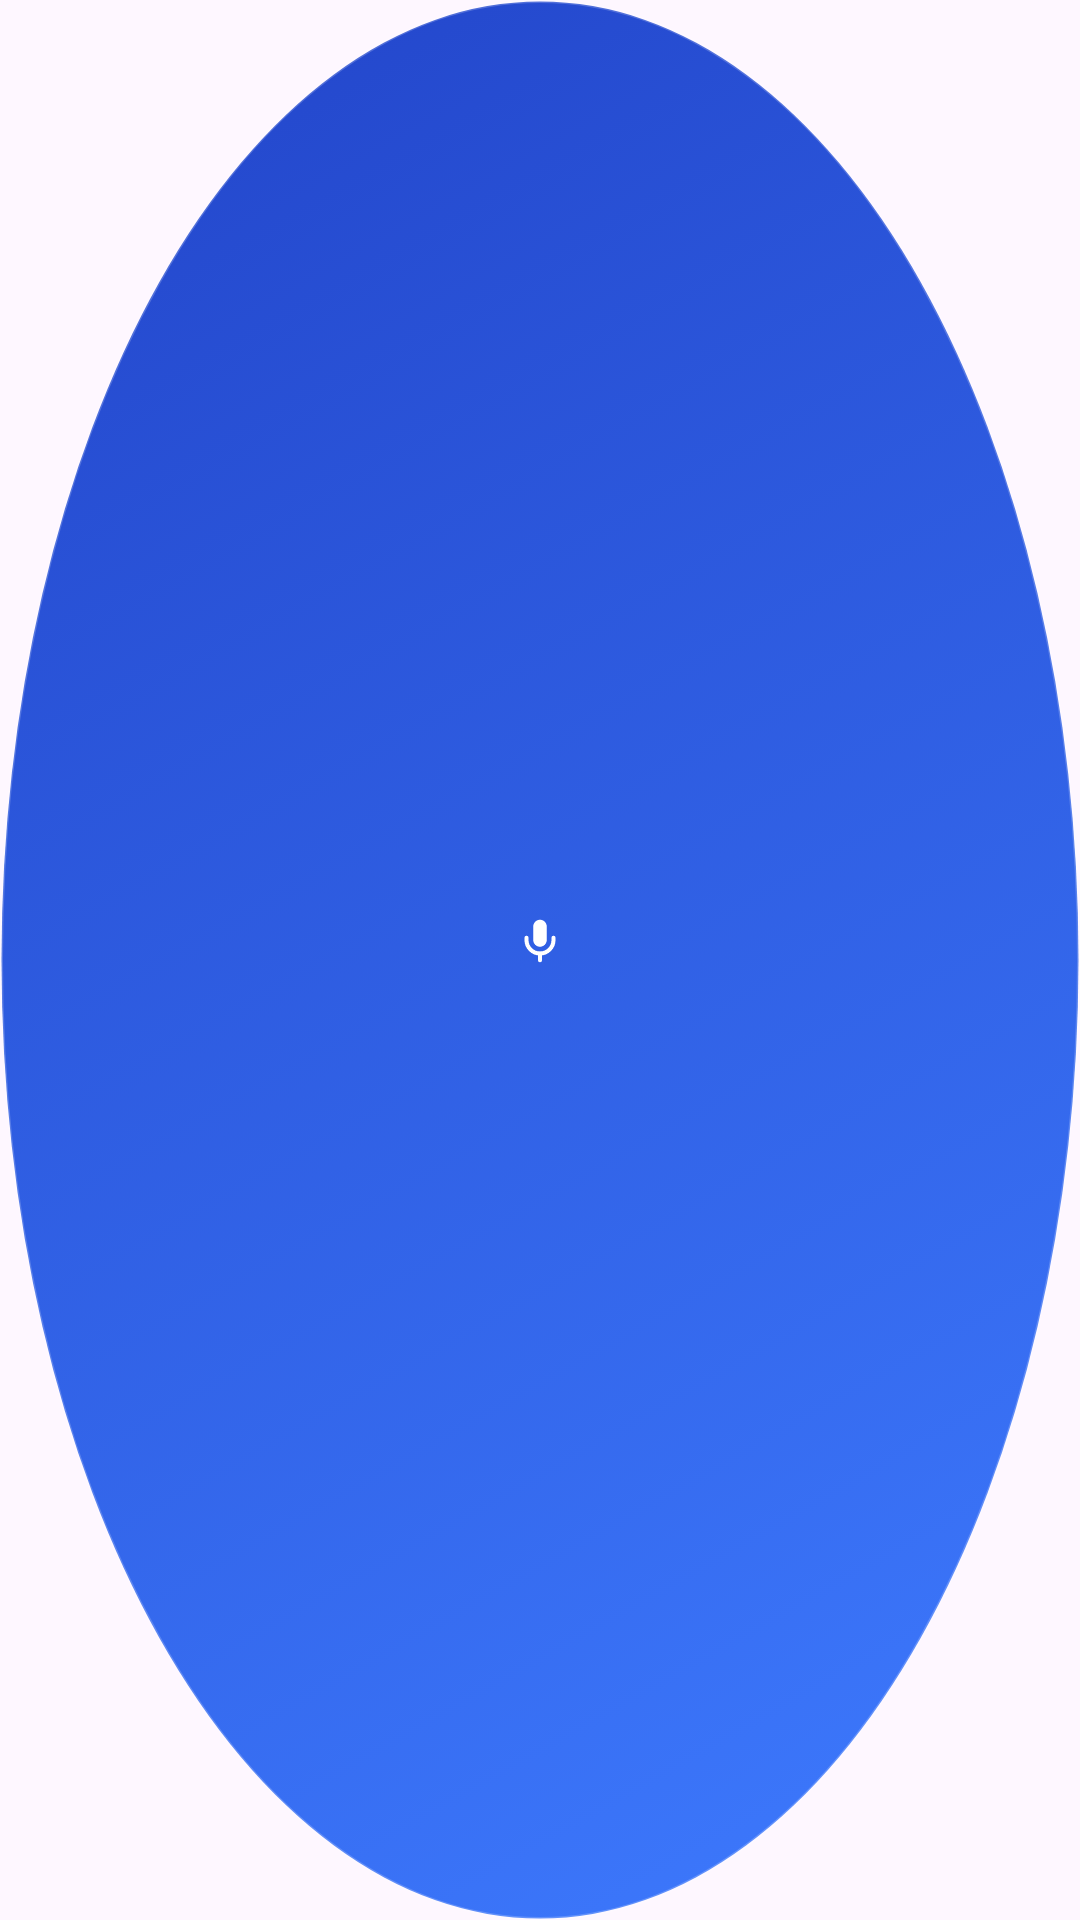

Screen size 1080*1920. Icon name, then its box in pixels as (x1, y1, x2, y2):
悬浮球，长按说话，单击切换电脑: (524, 919, 556, 963)
